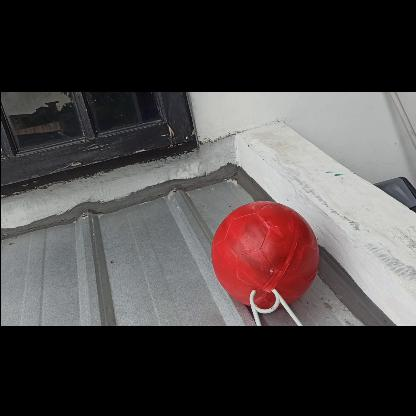red_ball: (209, 199, 316, 306)
